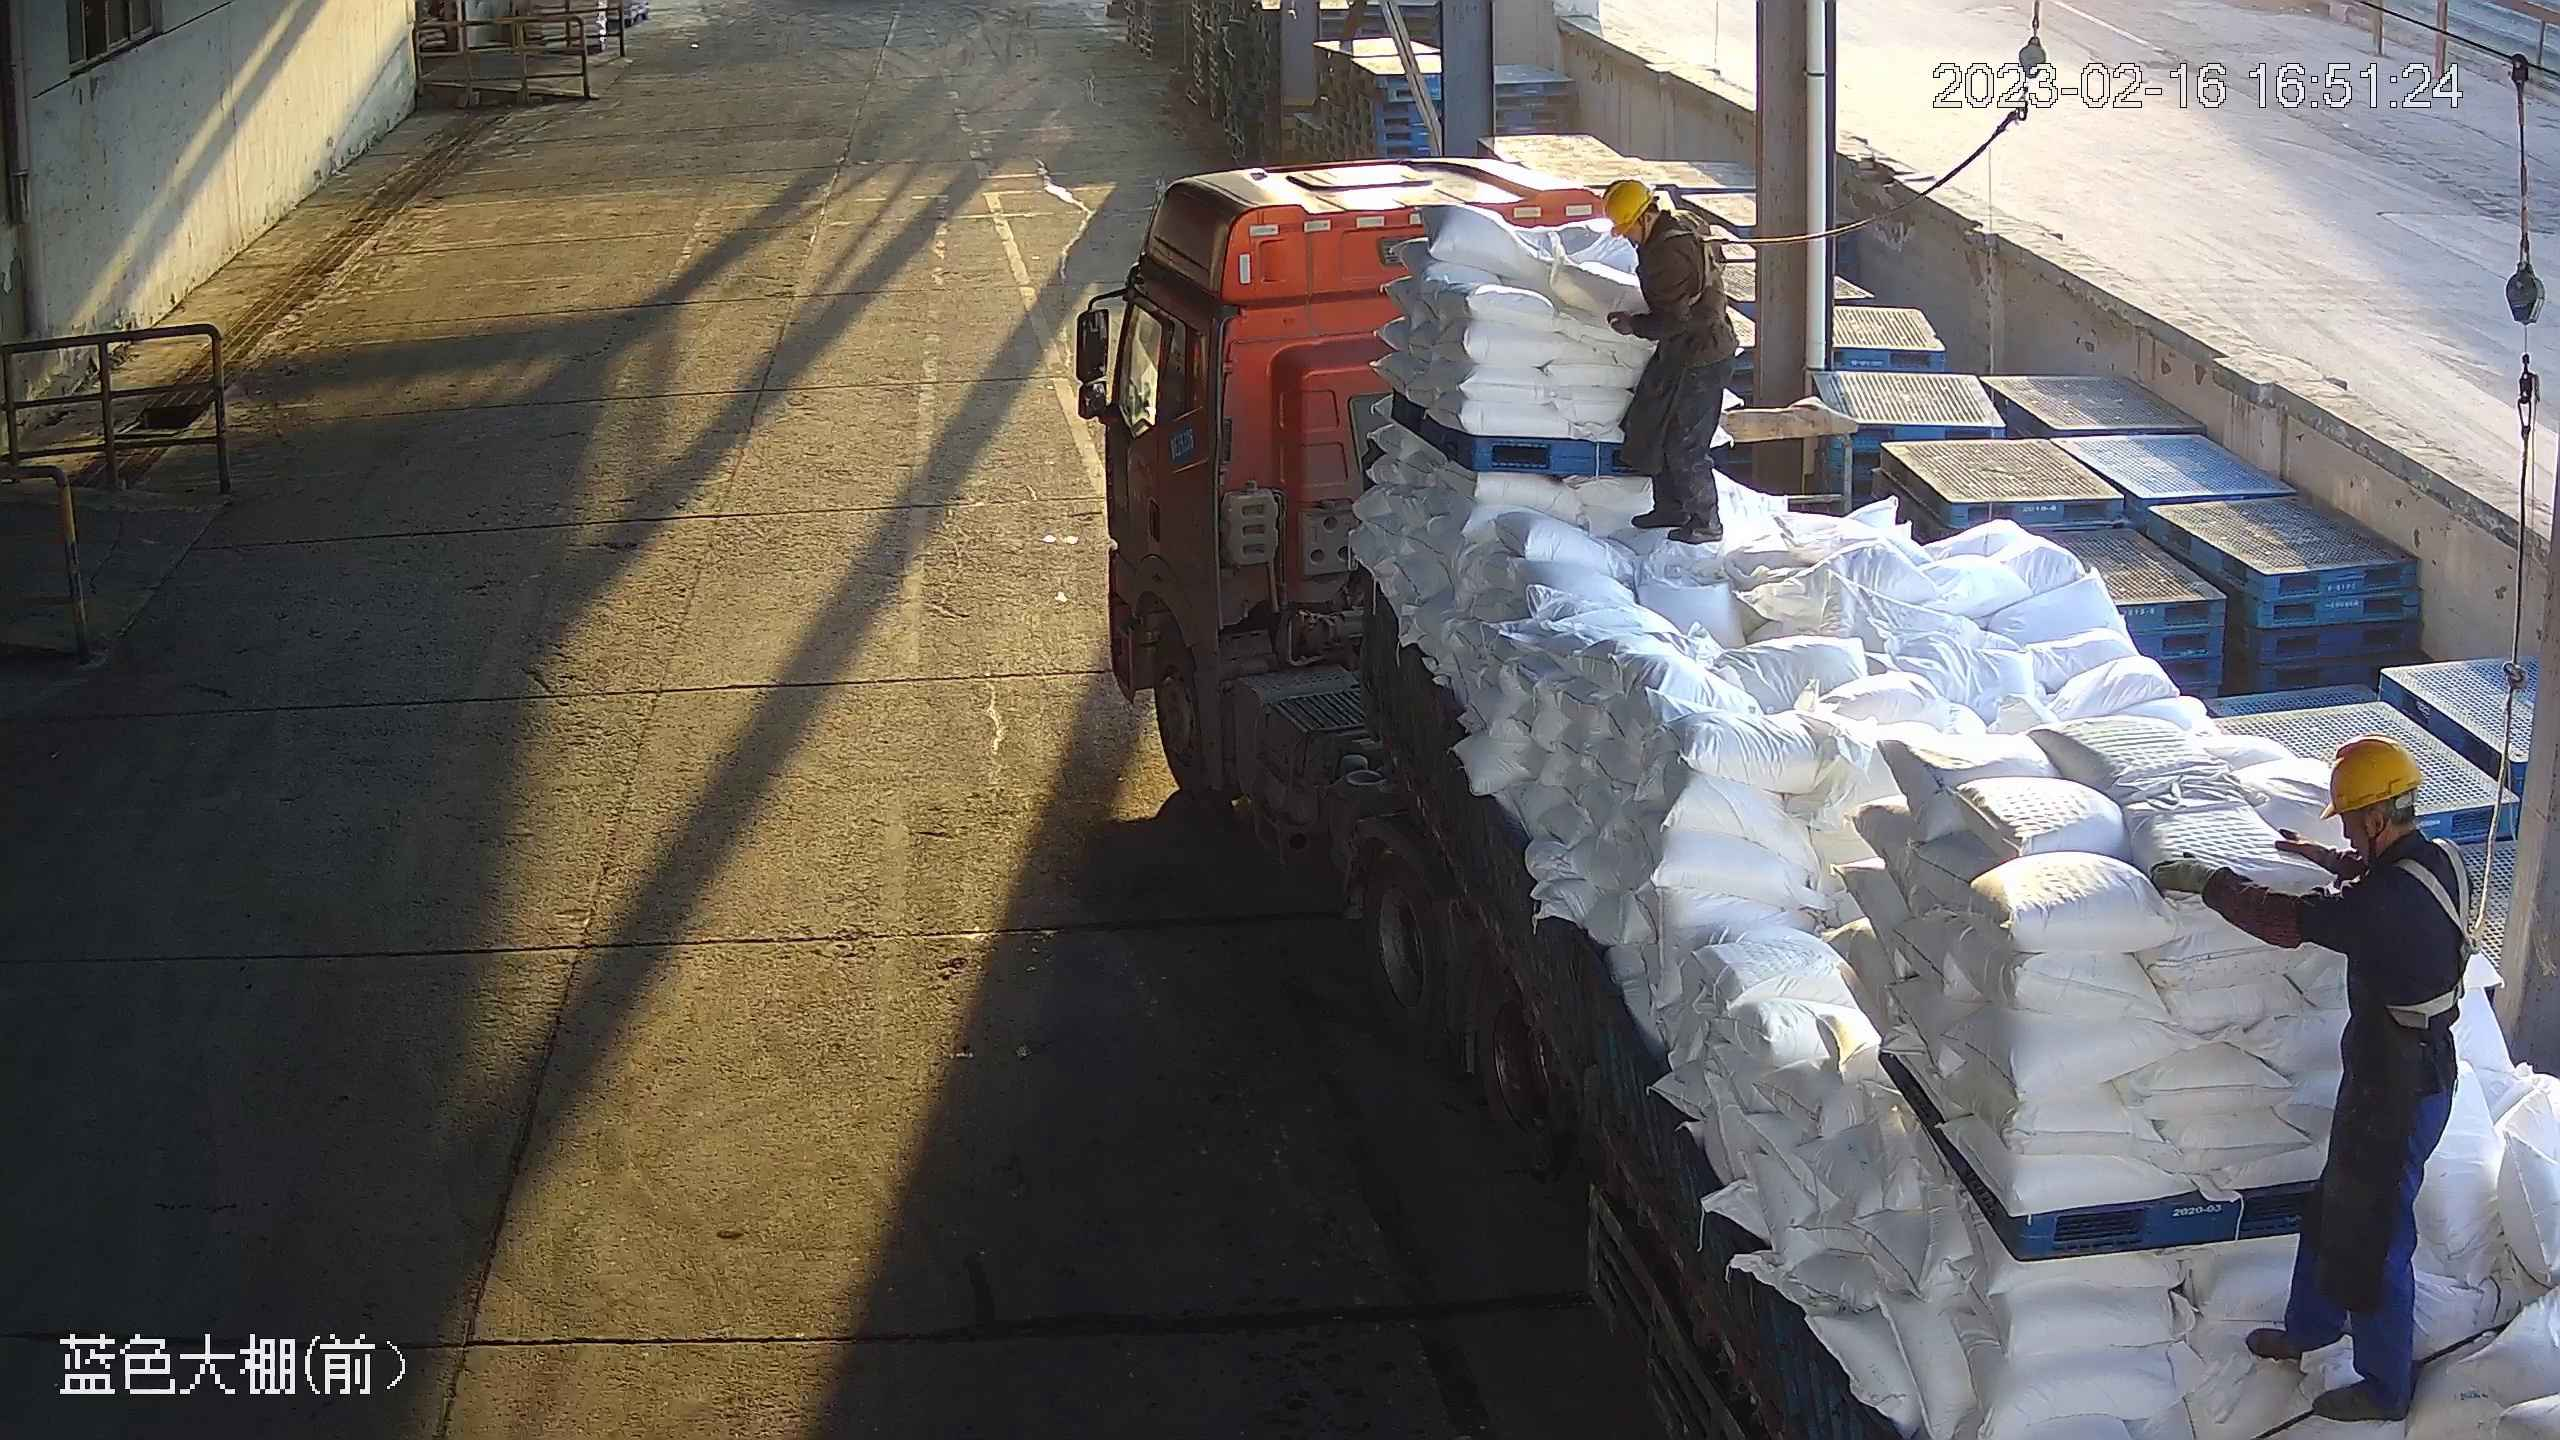helmet: (2320, 738, 2425, 823), (1598, 179, 1651, 242)
people: (2146, 738, 2468, 1429), (1583, 182, 1744, 547)
truck: (1061, 152, 2560, 1440)
